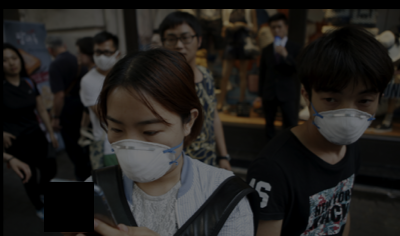with_mask: (107, 113, 185, 184), (312, 86, 378, 145), (92, 47, 118, 71)
without_mask: (164, 29, 198, 63), (4, 54, 21, 77), (270, 23, 290, 41)
